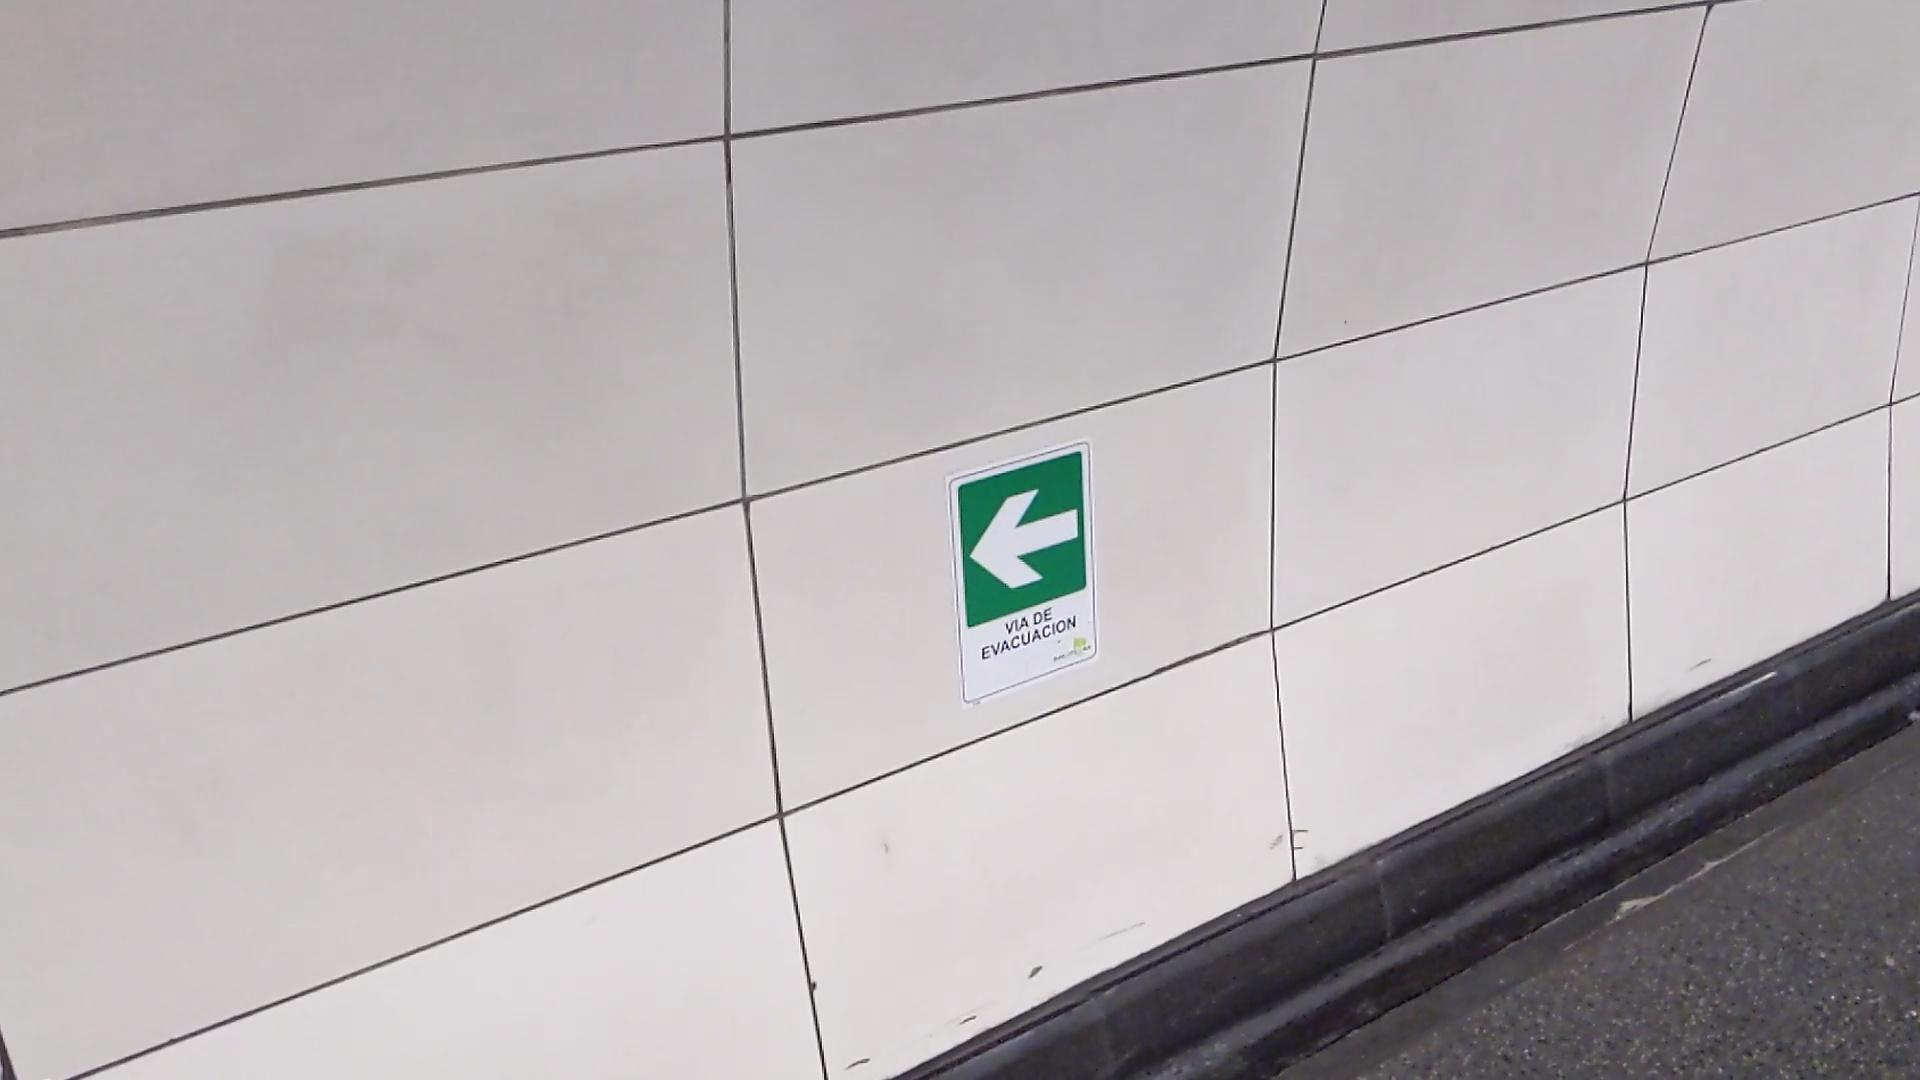emergency left arrow: (968, 485, 1081, 592)
